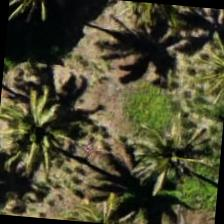Kelapa_Sawit: (123, 90, 221, 188), (0, 61, 87, 159)
